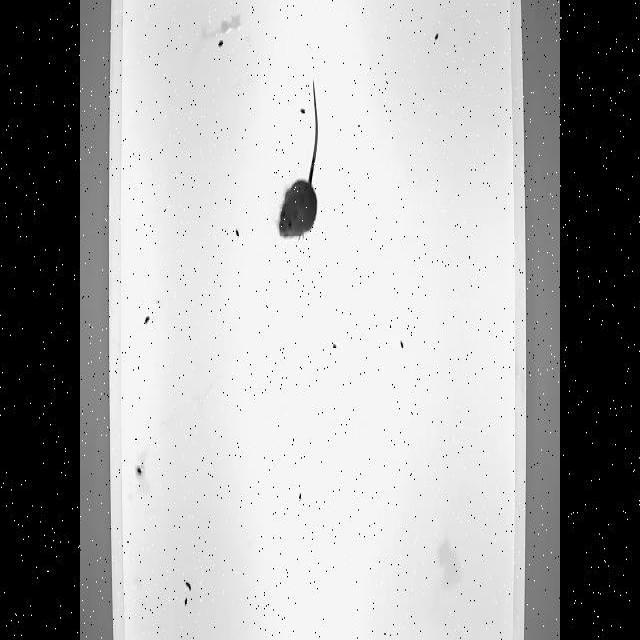rat: (274, 77, 320, 240)
